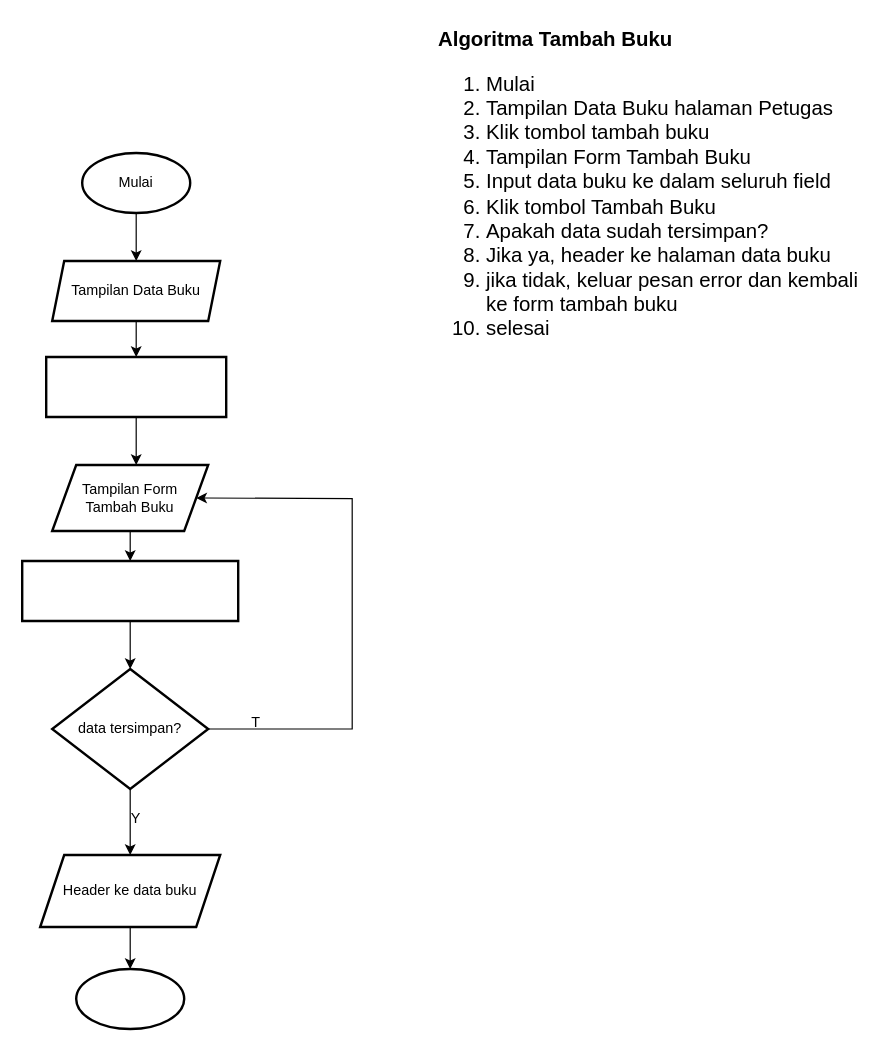
The diagram is 888 pixels wide and 1050 high, and some of its shapes have lost their labels. The centre of each missing label's shape, as x and y in pixels:
"Input data ke field yang tersedia" goes at point (129, 590).
"Klik Tombol Tambah Buku" goes at point (135, 386).
"Selesai" goes at point (129, 998).
